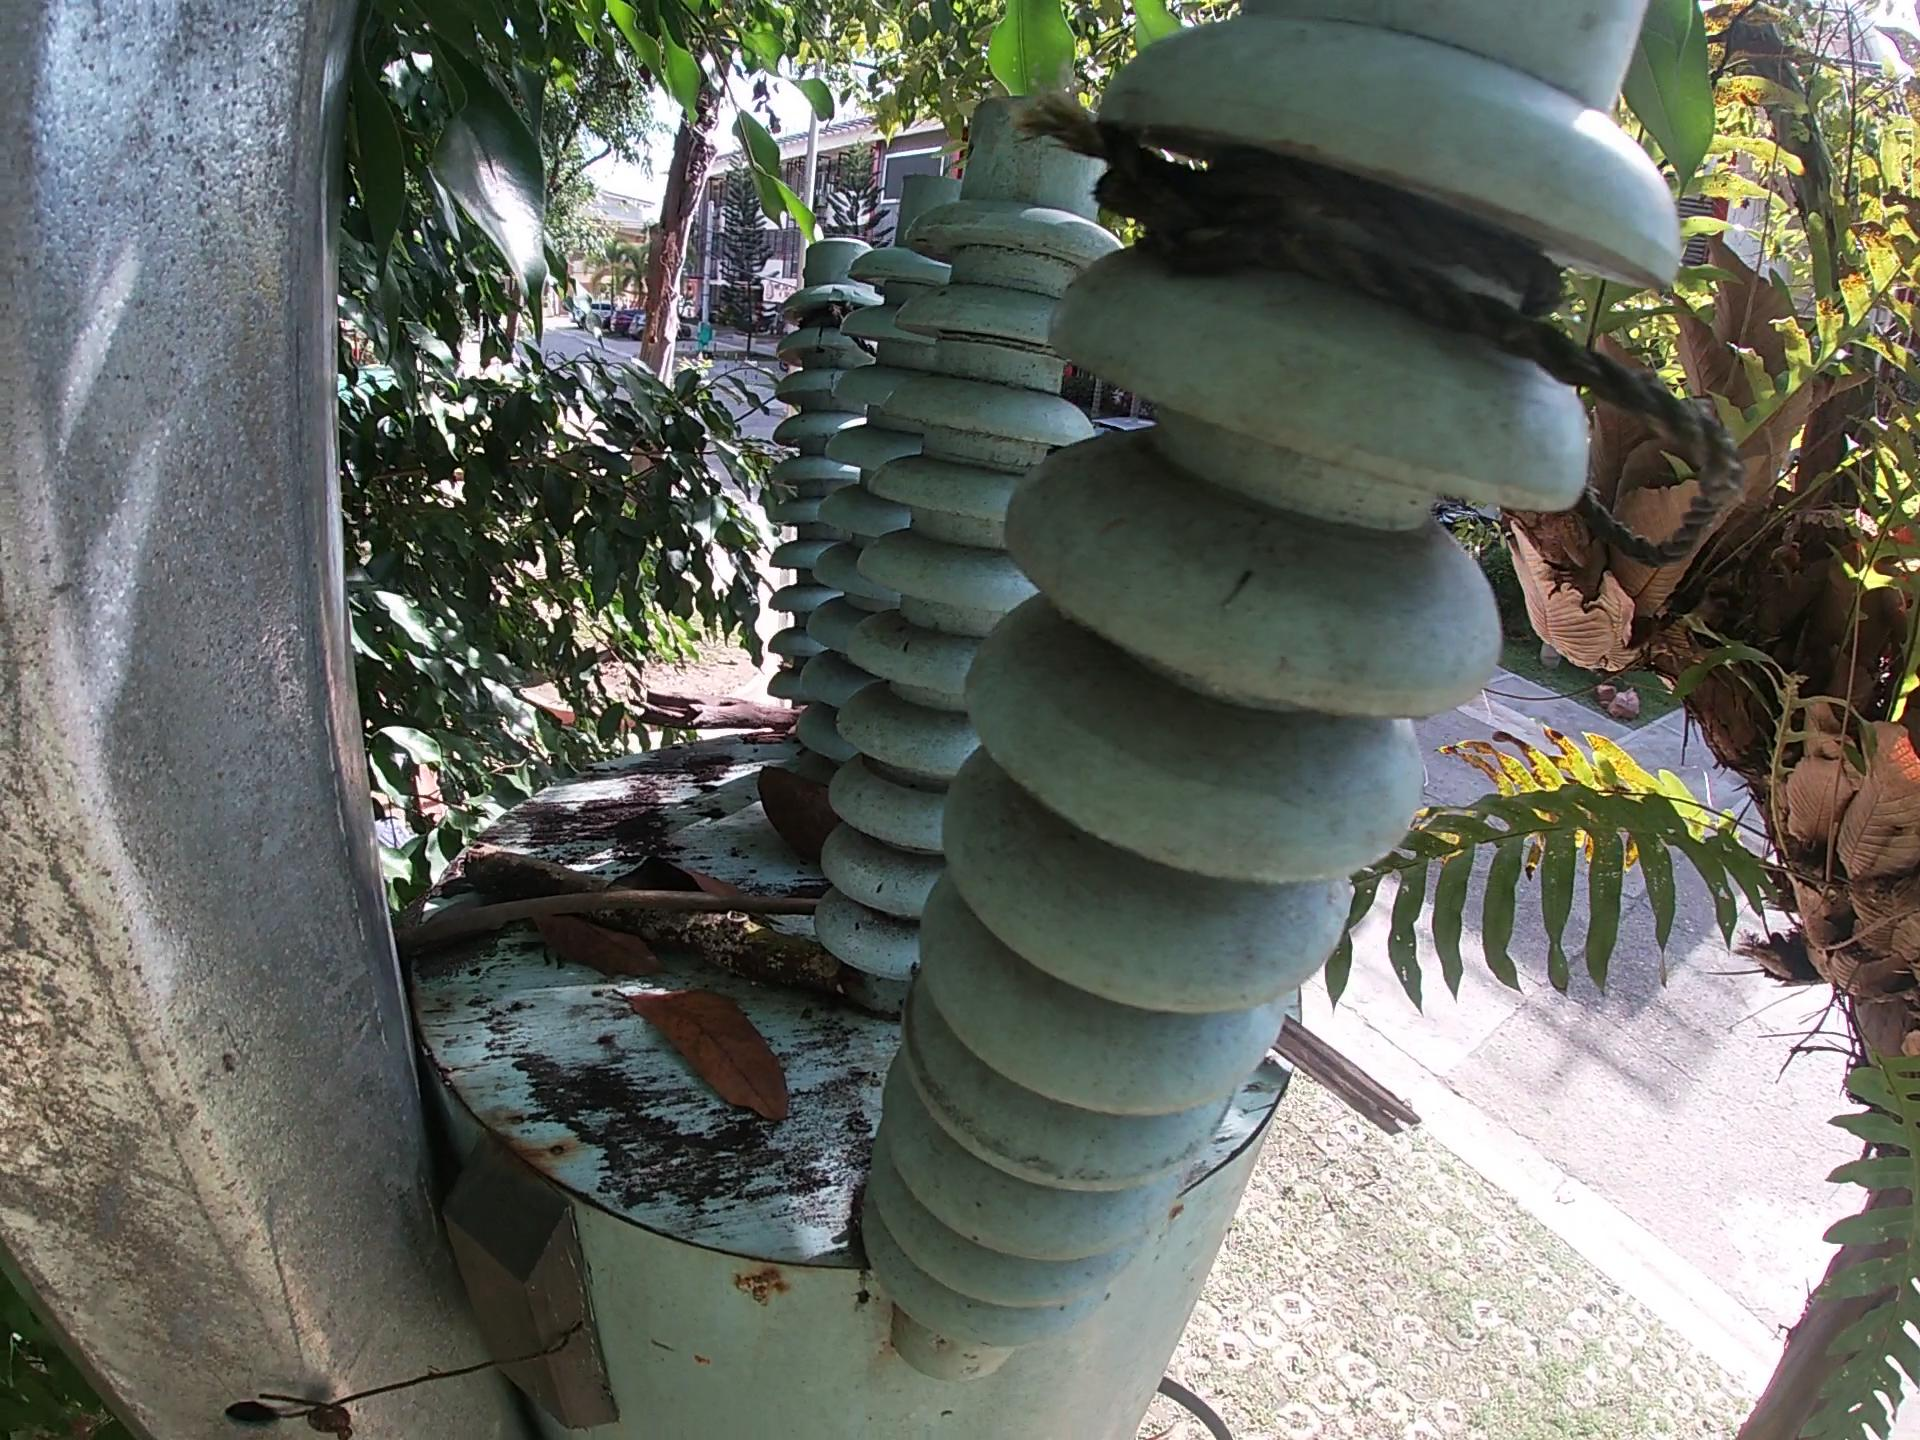leaf: (608, 982, 803, 1137), (529, 909, 668, 980), (602, 861, 747, 895)
mahogany fruit: (751, 758, 842, 856)
tree branch: (458, 839, 845, 992), (393, 892, 821, 961), (1271, 1007, 1426, 1144), (626, 690, 807, 749)
